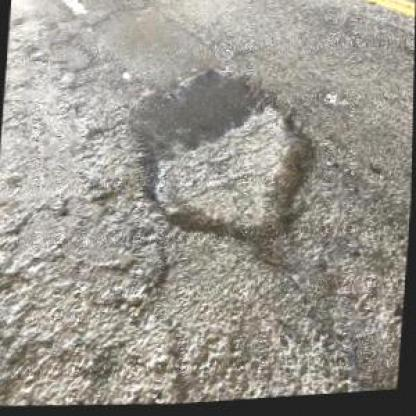pothole: (116, 56, 326, 280)
